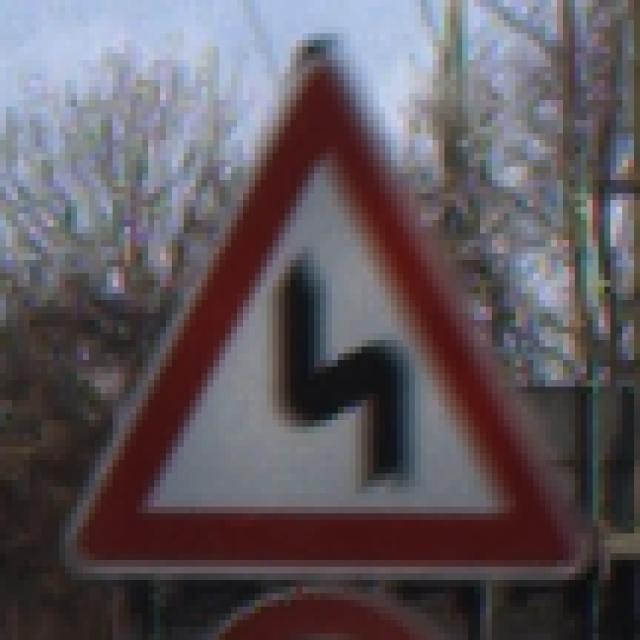left reverse bend: (64, 41, 593, 587)
